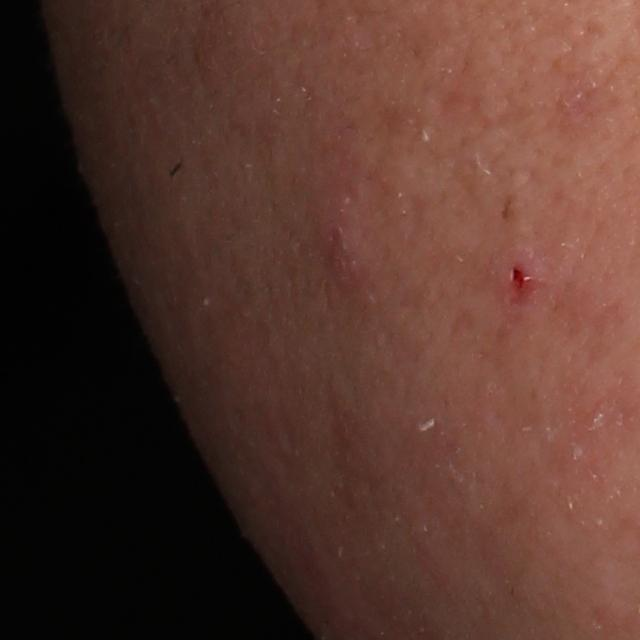papule: (306, 189, 391, 293), (492, 250, 541, 303)
